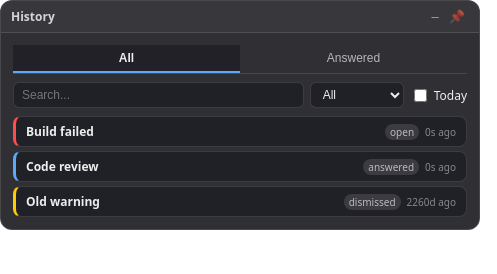
Test case: HistoryWidget › collapses expanded item on second click
The width and height of the screenshot is (497, 274).
Check: the text "Build failed" is shown, box x1=26 y1=123 x2=94 y2=140
Click the text "Build failed" at [60, 132], box x1=26 y1=123 x2=456 y2=140
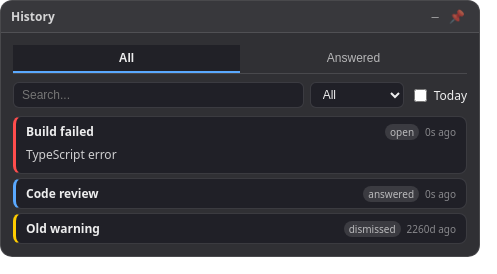
Check: the text "TypeScript error" is shown, box x1=26 y1=146 x2=117 y2=163
Click the text "Build failed" at [60, 132], box x1=26 y1=123 x2=456 y2=140
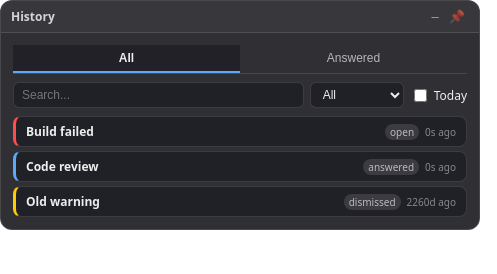
Check: the text "TypeScript error" is gone
